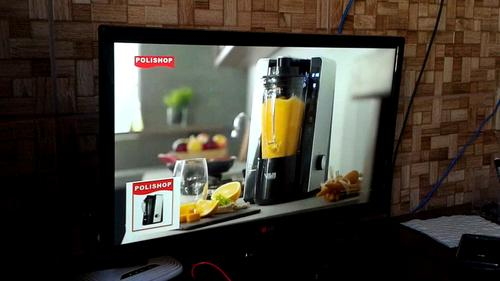Polishop #1: (125, 177, 180, 239)
